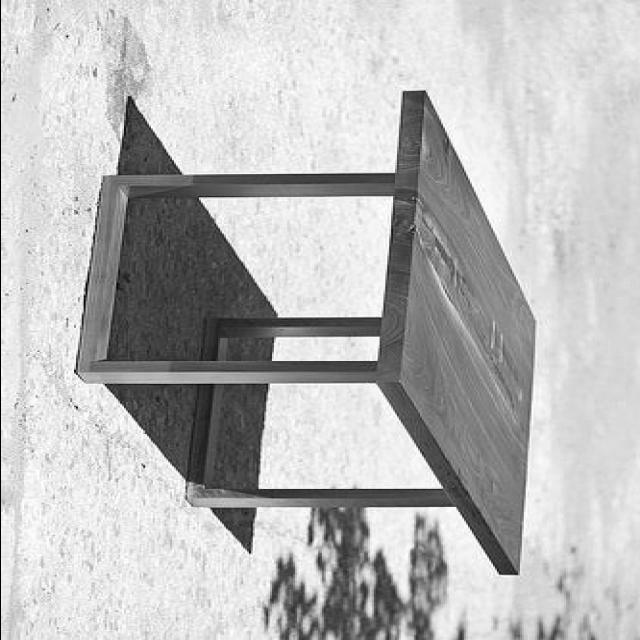table: (74, 90, 536, 574)
